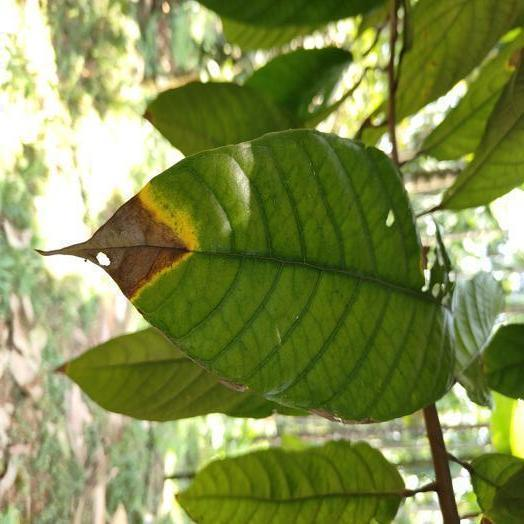Potassium: (46, 130, 453, 421)
